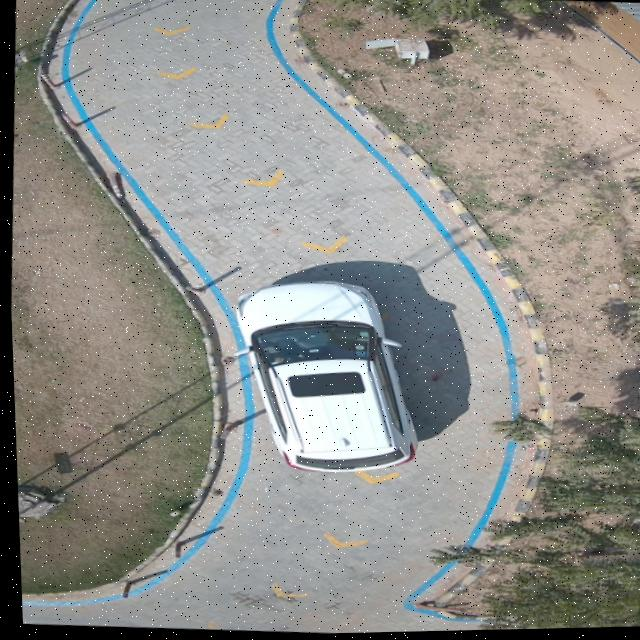car: (233, 281, 414, 474)
